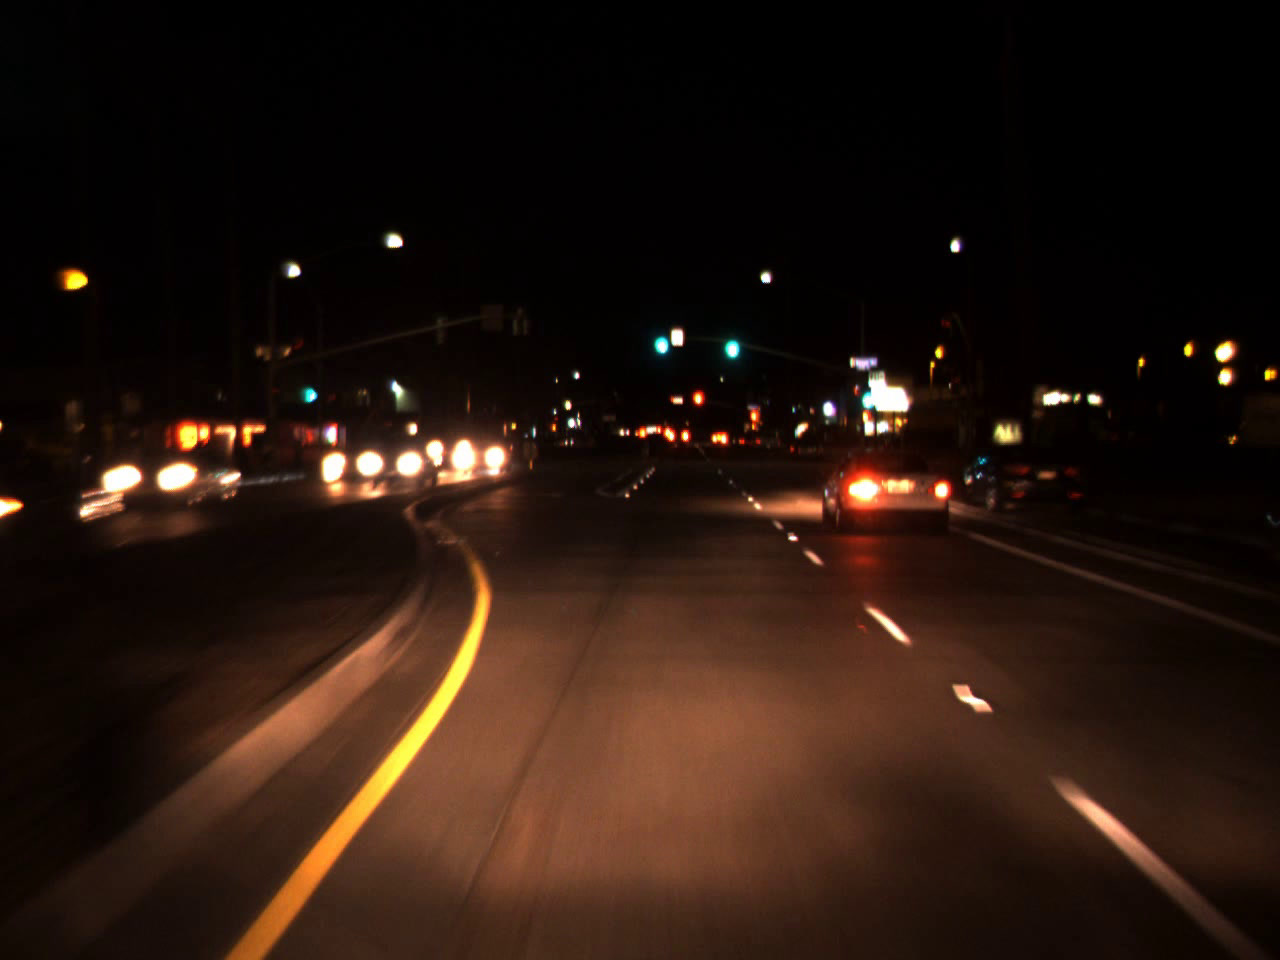go: (719, 317, 742, 365), (650, 317, 671, 359), (300, 372, 318, 408), (856, 381, 877, 411)
stop: (690, 389, 706, 421), (751, 409, 757, 433)
